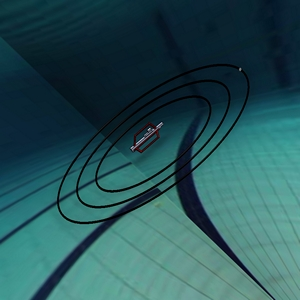circle: (53, 60, 256, 234)
submarine: (120, 120, 167, 165)
